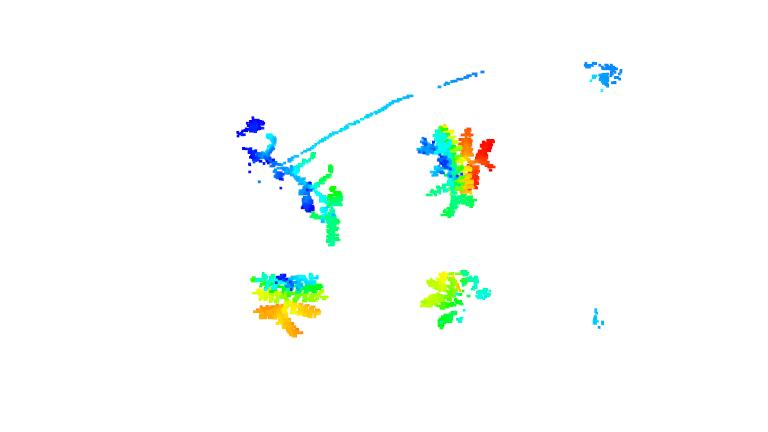chickpea: (236, 118, 347, 247), (415, 123, 495, 221), (250, 268, 323, 337), (422, 267, 488, 330)
